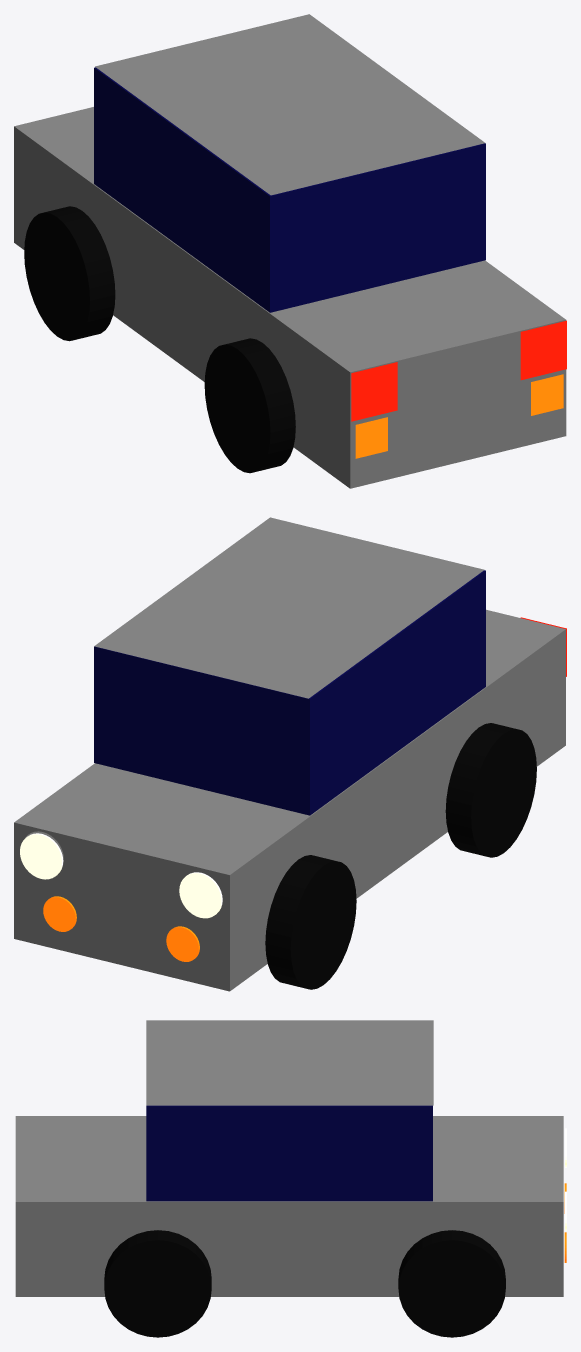
The model's file is new car 2.fbx.
3 views of the same model, one above another, from view 1: azimuth 30°, elevation 25°; view 2: azimuth 150°, elevation 25°; view 3: azimuth 270°, elevation 25° (orthographic). The views are drawn at different scales.
Visible parts, largest first — view 1: Cube.012, Cube.013, Plane.042, Circle.064, Circle.066, Plane.039, Plane.038, Plane.040, Plane.041; view 2: Cube.012, Cube.013, Plane.042, Circle.064, Circle.066, Circle.067, Circle.059, Circle.060, Circle.061; view 3: Cube.012, Cube.013, Plane.042, Circle.065, Circle.063.
Boxes of the visible parts, x1,y1,x2,y2 form: Cube.012: (14, 107, 566, 488); Cube.013: (94, 67, 485, 312); Plane.042: (95, 14, 485, 195); Circle.064: (24, 206, 115, 341); Circle.066: (204, 338, 295, 473); Plane.039: (520, 320, 566, 380); Plane.038: (351, 362, 397, 421); Plane.040: (531, 374, 563, 415); Plane.041: (355, 417, 387, 458); Cube.012: (14, 609, 565, 991); Cube.013: (94, 570, 485, 815); Plane.042: (94, 517, 484, 698); Circle.064: (265, 855, 356, 989); Circle.066: (445, 723, 536, 857); Circle.067: (179, 872, 222, 918); Circle.059: (20, 833, 63, 879); Circle.060: (166, 926, 199, 961); Circle.061: (43, 896, 76, 931); Cube.012: (15, 1116, 563, 1296); Cube.013: (146, 1105, 432, 1201); Plane.042: (146, 1020, 433, 1105); Circle.065: (104, 1230, 211, 1337); Circle.063: (398, 1230, 505, 1337).
Bounding box in the file's own units: 247 × 241 × 544.
